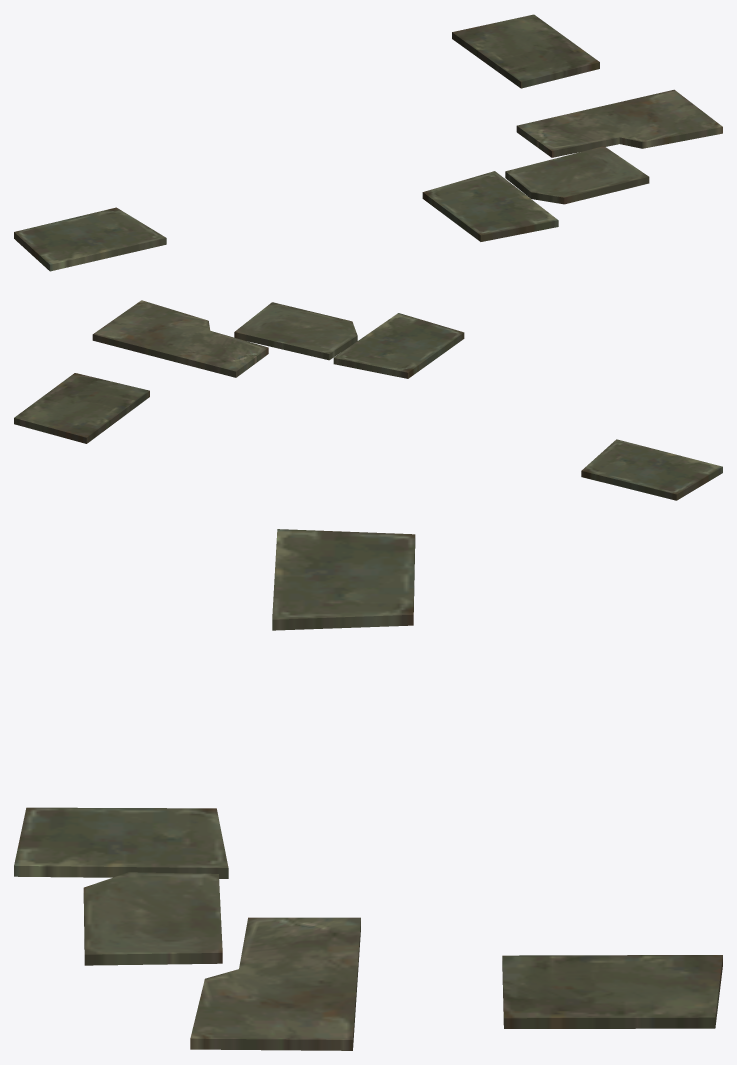
Rendered from common_yewai_shiban03.FBX.
3 renders of one model, top to bottom at view 1: azimuth 30°, elevation 25°; view 2: azimuth 150°, elevation 25°; view 3: azimuth 270°, elevation 25°, orthographic. The views are drawn at different scales.
Visible parts, largest first — view 1: Object03; view 2: Object03; view 3: Object03.
Part boxes in pixels (x1,y1,x2,y2): Object03: (14,14,722,271); Object03: (14,300,722,500); Object03: (14,529,722,1050).
Size of the model in its own units: 6.3 by 0.0625 by 3.69.
